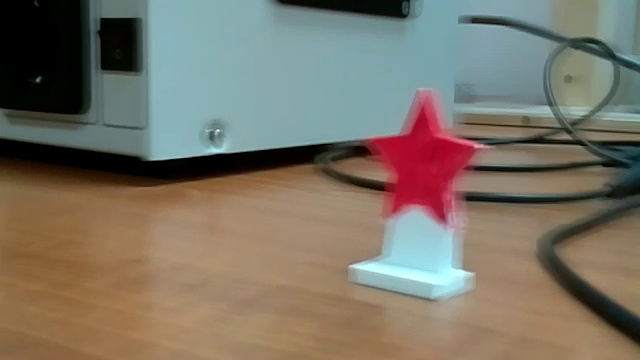star: (299, 82, 518, 309)
